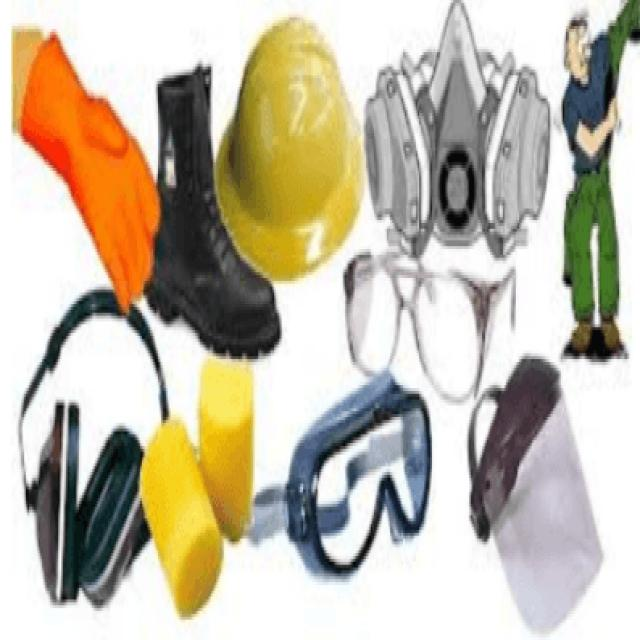goggles: (274, 407, 442, 575), (344, 250, 492, 403)
helmet: (233, 21, 344, 279)
